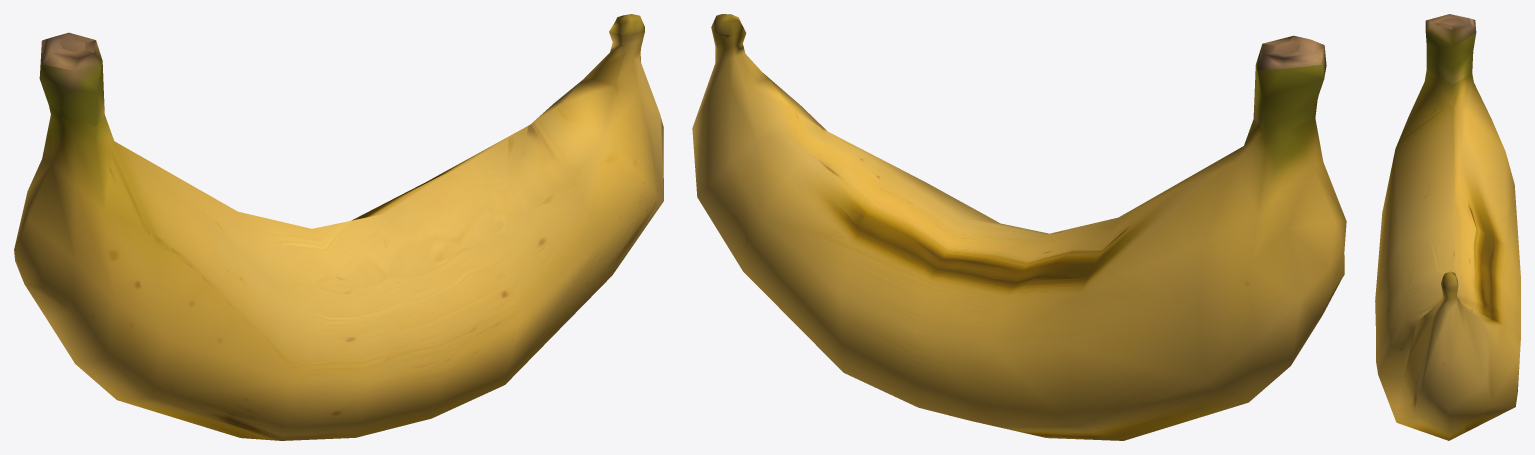
The model's file is Platano.fbx.
3 views of the same model, side by side, from view 1: azimuth 30°, elevation 25°; view 2: azimuth 150°, elevation 25°; view 3: azimuth 270°, elevation 25° (orthographic). The views are drawn at different scales.
Visible parts, largest first — view 1: mesh_rep_0_ori_repair_quad; view 2: mesh_rep_0_ori_repair_quad; view 3: mesh_rep_0_ori_repair_quad.
Boxes of the visible parts, x1,y1,x2,y2 form: mesh_rep_0_ori_repair_quad: (14,14,663,440); mesh_rep_0_ori_repair_quad: (692,14,1346,440); mesh_rep_0_ori_repair_quad: (1375,14,1520,440).
Size of the model in its own units: 39.96 by 26.73 by 11.7.
